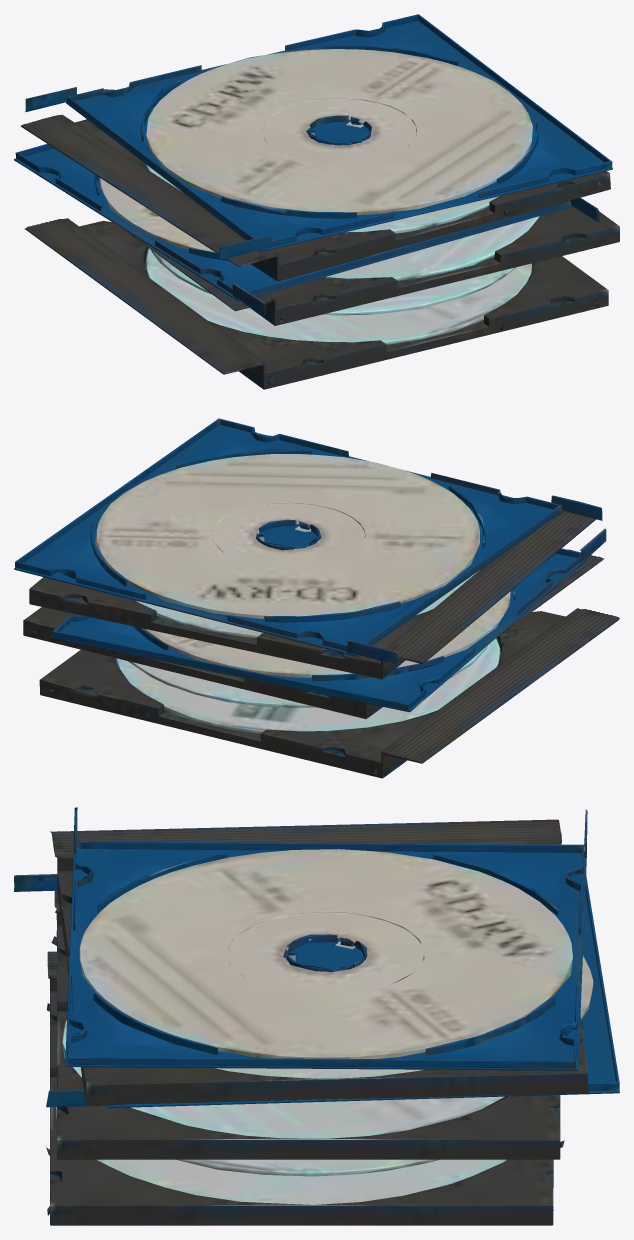
File: SM_Record_Stack_E01_N1.glb
3 views of the same model, one above another, from view 1: azimuth 30°, elevation 25°; view 2: azimuth 150°, elevation 25°; view 3: azimuth 270°, elevation 25° (orthographic). The views are drawn at different scales.
Visible parts, largest first — view 1: SM_Record_Stack_E01_N1; view 2: SM_Record_Stack_E01_N1; view 3: SM_Record_Stack_E01_N1.
Boxes of the visible parts, left/top/right/bottom form: SM_Record_Stack_E01_N1: left=14, top=14, right=619, bottom=389; SM_Record_Stack_E01_N1: left=14, top=418, right=619, bottom=778; SM_Record_Stack_E01_N1: left=14, top=807, right=619, bottom=1225.
Size of the model in its own units: 0.1451 by 0.0494 by 0.1476.
1 material, 1 textured.
